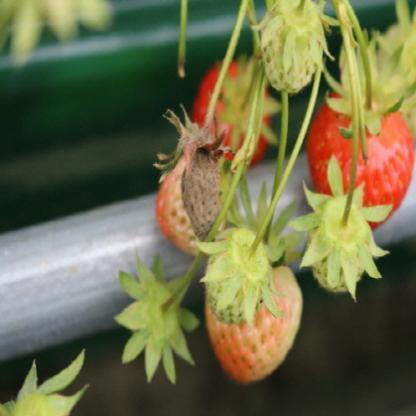Strawberry_Gray_Mold: (152, 103, 236, 243)
